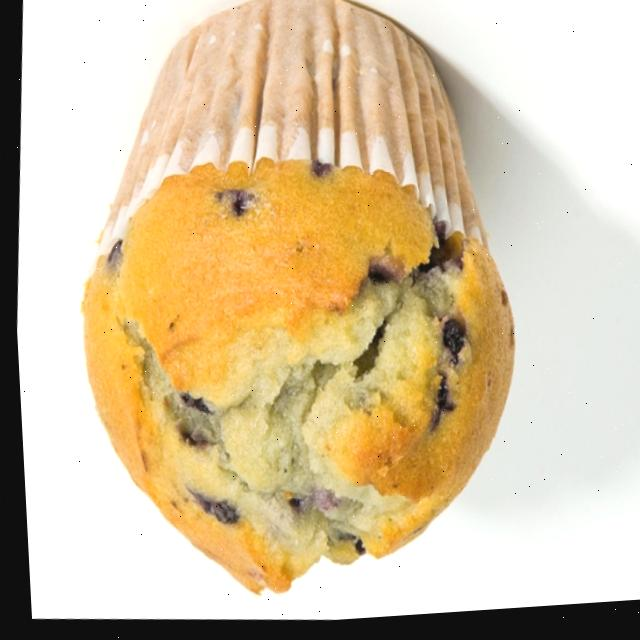炸货点心: (29, 0, 565, 635)
面包点心: (29, 0, 565, 635)
